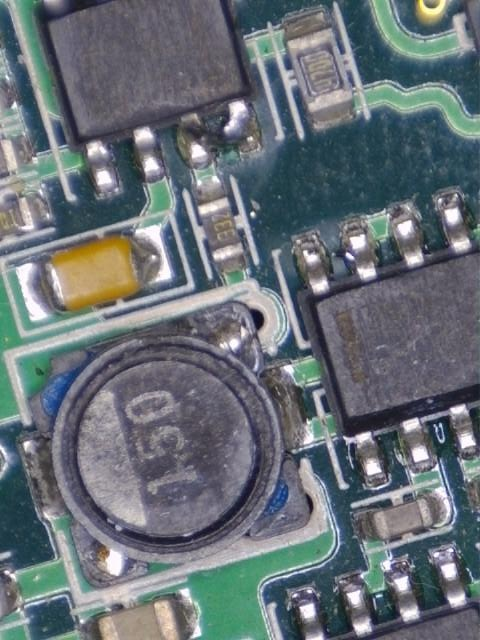pcb_defect: (292, 216, 379, 296), (177, 99, 262, 165)
